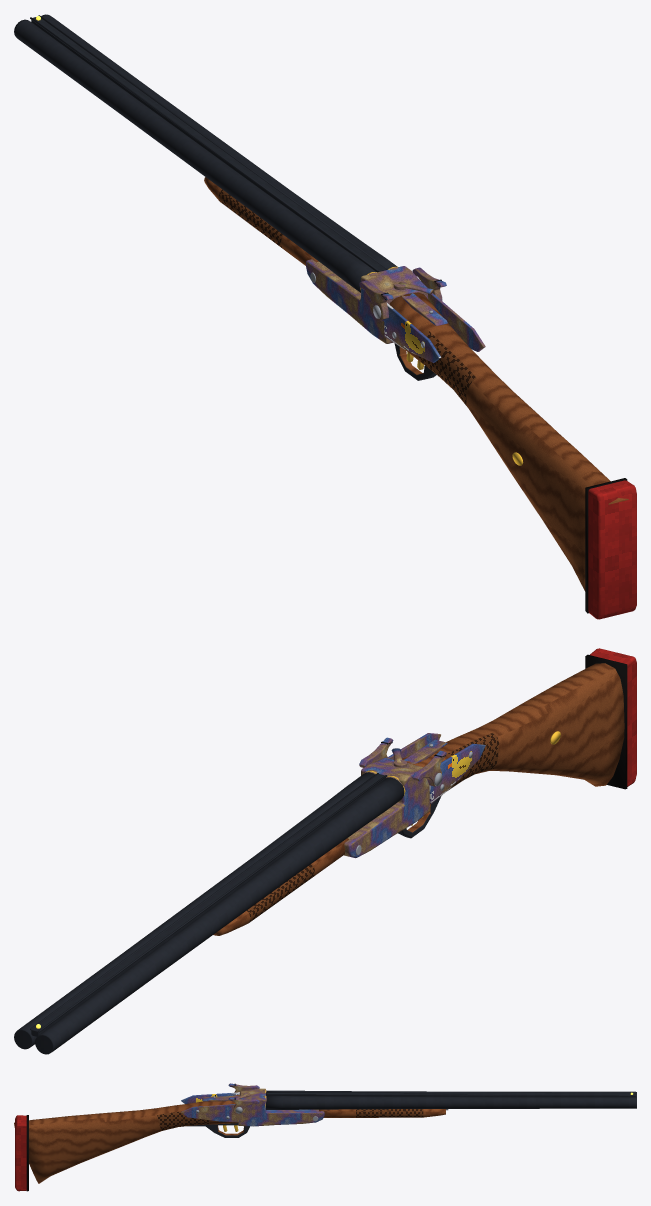
Rendered from w_shotgun_double.glb.
The picture shows the model from 3 angles, top to bottom: view 1: azimuth 30°, elevation 25°; view 2: azimuth 150°, elevation 25°; view 3: azimuth 270°, elevation 25°; orthographic projection. The views are drawn at different scales.
Parts seen in each view (by area): view 1: dbl_body_wzA, dbl_body_wzB, dbl_body_wzN, dblhammer_wzA; view 2: dbl_body_wzA, dbl_body_wzB, dbl_body_wzN, dblhammer_wzA; view 3: dbl_body_wzA, dbl_body_wzB, dblhammer_wzA, dbl_body_wzN.
Part boxes in pixels (x1,y1,x2,y2): dbl_body_wzA: (204, 177, 636, 619); dbl_body_wzB: (14, 14, 627, 613); dbl_body_wzN: (36, 16, 523, 465); dblhammer_wzA: (359, 267, 446, 321); dbl_body_wzA: (213, 648, 636, 935); dbl_body_wzB: (14, 654, 627, 1054); dbl_body_wzN: (36, 731, 560, 1028); dblhammer_wzA: (359, 737, 446, 786); dbl_body_wzA: (14, 1088, 445, 1191); dbl_body_wzB: (26, 1090, 636, 1191); dblhammer_wzA: (228, 1083, 259, 1113); dbl_body_wzN: (181, 1090, 633, 1131).
Size of the model in its own units: 0.0684 by 0.1881 by 1.11.
10 materials, 6 textured.
